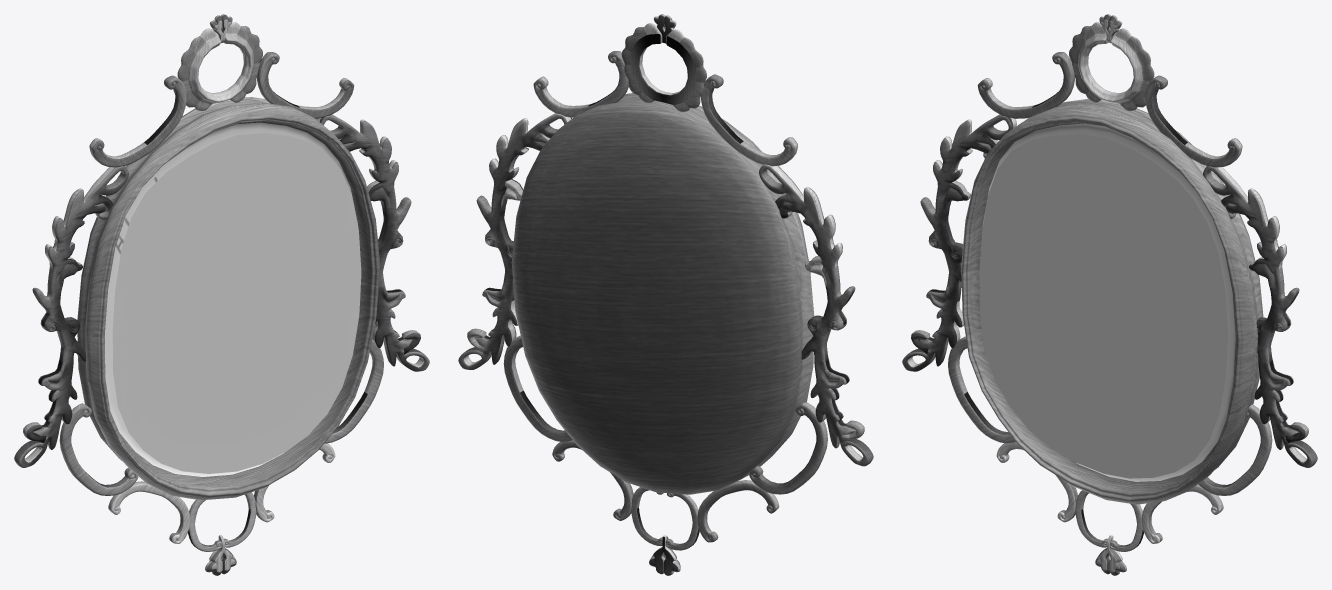
File: mirror-final2.glb
3 views of the same model, side by side, from view 1: azimuth 30°, elevation 25°; view 2: azimuth 150°, elevation 25°; view 3: azimuth 330°, elevation 25° (orthographic).
Visible parts, largest first — view 1: Line001_Material #48_0.001, Line001; view 2: Line001; view 3: Line001_Material #48_0.001, Line001.
Boxes of the visible parts, box(x1,y1,x2,y2) form: Line001_Material #48_0.001: box(112, 133, 361, 473); Line001: box(14, 14, 429, 575); Line001: box(458, 14, 873, 575); Line001_Material #48_0.001: box(979, 134, 1228, 478); Line001: box(902, 14, 1317, 575).
Bounding box in the file's own units: 34.13 × 44.38 × 5.09.
2 materials, 1 textured.
